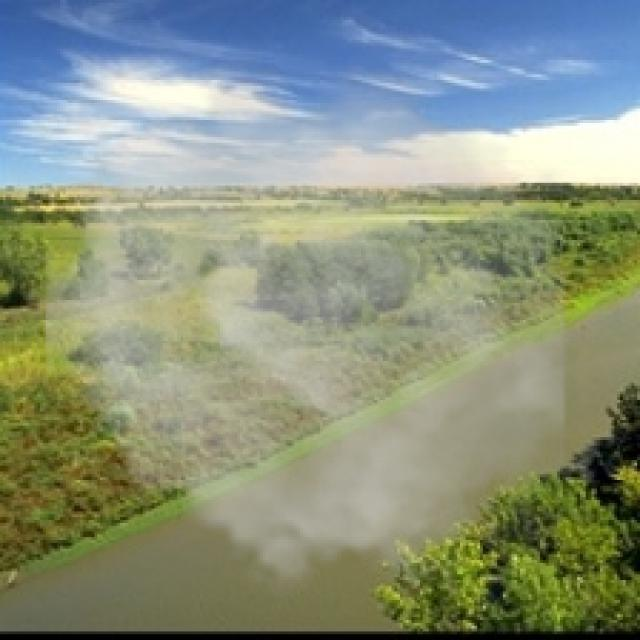Smoke: (46, 54, 566, 603)
